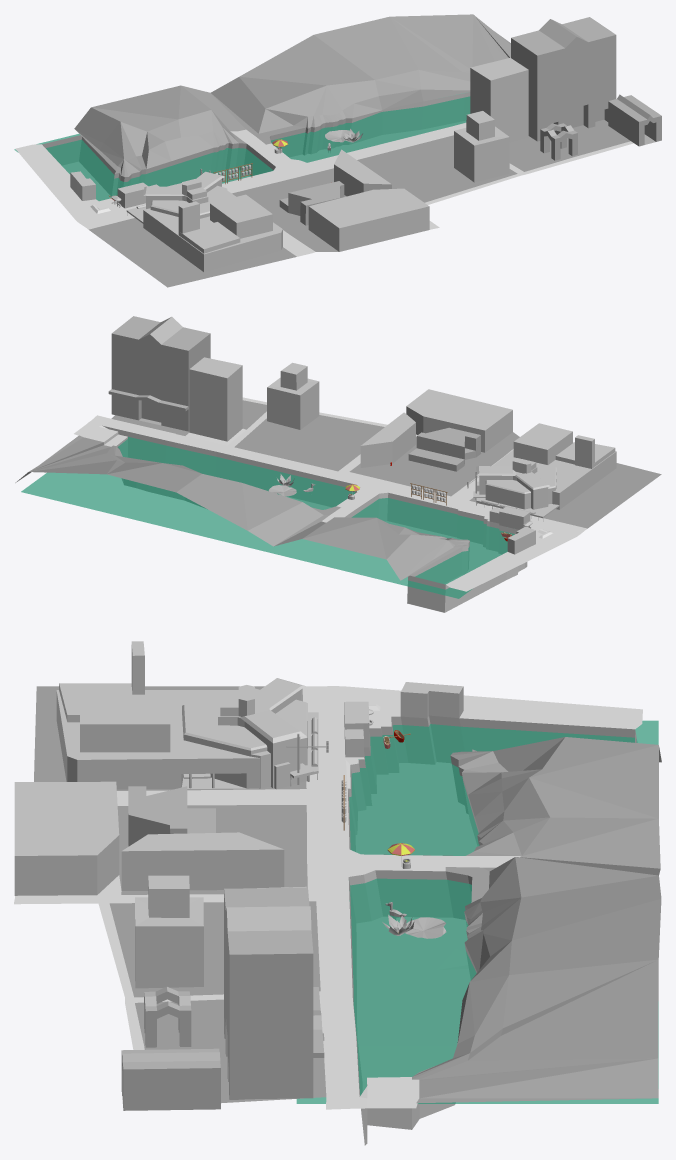
The model's file is background_combine.fbx.
The picture shows the model from 3 angles, top to bottom: view 1: azimuth 30°, elevation 25°; view 2: azimuth 150°, elevation 25°; view 3: azimuth 270°, elevation 25°; orthographic projection. The views are drawn at different scales.
Visible parts, largest first — view 1: takebe_MAPhill, takebe_MAPfield, kaki_atlion, takebe_BUILD, takebe_UNDERWATER, takebe_water, yana_catsle, takebe_MAP, takebe_guest, tsune_museum; view 2: takebe_water, takebe_MAPhill, takebe_UNDERWATER, takebe_MAPfield, takebe_BUILD, takebe_MAP, kaki_atlion, yana_catsle, takebe_guest, tsune_museum; view 3: takebe_MAPhill, takebe_UNDERWATER, takebe_water, takebe_MAP, kaki_atlion, yana_catsle, takebe_BUILD, takebe_MAPfield, takebe_guest, tsune_museum.
Boxes of the visible parts, x1,y1,x2,y2 form: takebe_MAPhill: (74,14,510,176); takebe_MAPfield: (89,119,630,287); kaki_atlion: (511,17,661,160); takebe_BUILD: (70,57,528,251); takebe_UNDERWATER: (42,92,470,200); takebe_water: (14,92,470,201); yana_catsle: (126,171,282,272); takebe_MAP: (15,122,633,256); takebe_guest: (454,111,509,182); tsune_museum: (279,181,344,225); takebe_water: (21,437,514,598); takebe_MAPhill: (15,435,469,580); takebe_UNDERWATER: (102,425,527,612); takebe_MAPfield: (111,400,661,528); takebe_BUILD: (189,357,535,554); takebe_MAP: (74,397,587,591); kaki_atlion: (108,316,210,431); yana_catsle: (473,423,616,521); takebe_guest: (267,362,319,429); tsune_museum: (408,427,481,471); takebe_MAPhill: (412,737,661,1103); takebe_UNDERWATER: (348,715,636,1145); takebe_water: (296,720,658,1103); takebe_MAP: (14,686,642,1109); kaki_atlion: (121,887,324,1110); yana_catsle: (56,641,318,789); takebe_BUILD: (14,682,463,895); takebe_MAPfield: (34,686,326,1103); takebe_guest: (135,875,203,988); tsune_museum: (128,786,215,846).
Bounding box in the file's own units: 102 × 24.27 × 65.16.
